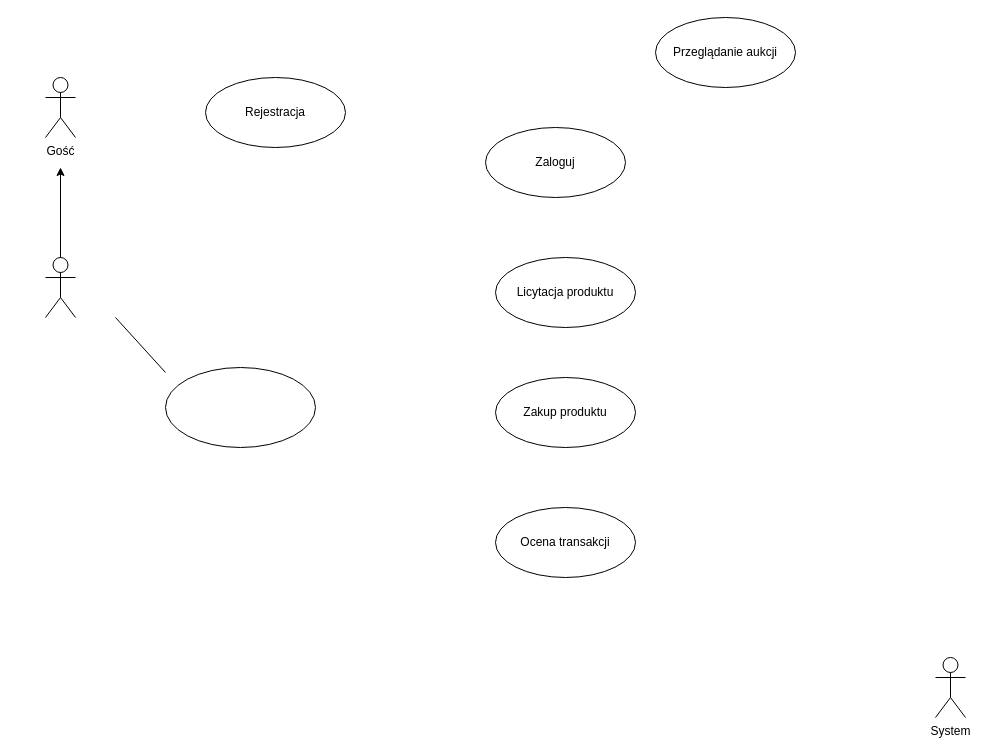
This 988x756 diagram has some shape labels left out. Here are the shapes that lost their labels. From the top down, the centre of each, then its label:
the point at 60,287: Uczestnik aukcji
the point at 240,407: Wystawienie produktu na aukcję
